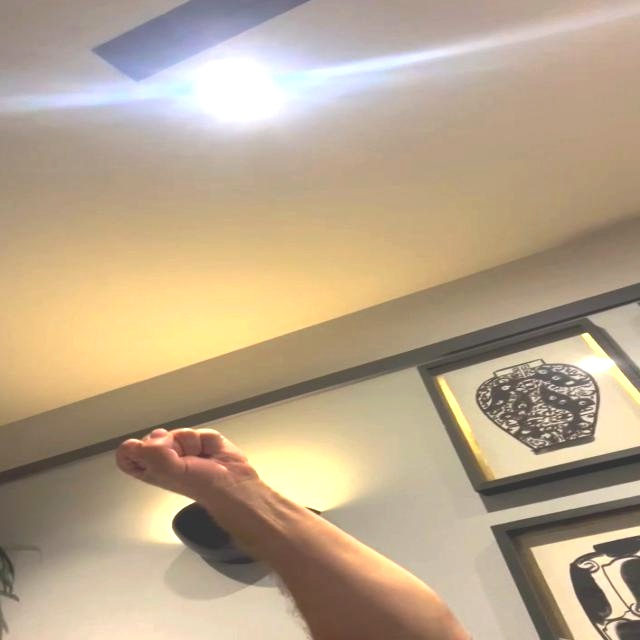Rock: (112, 426, 263, 496)
